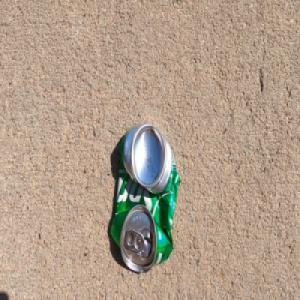SodaCan: (109, 121, 181, 273)
